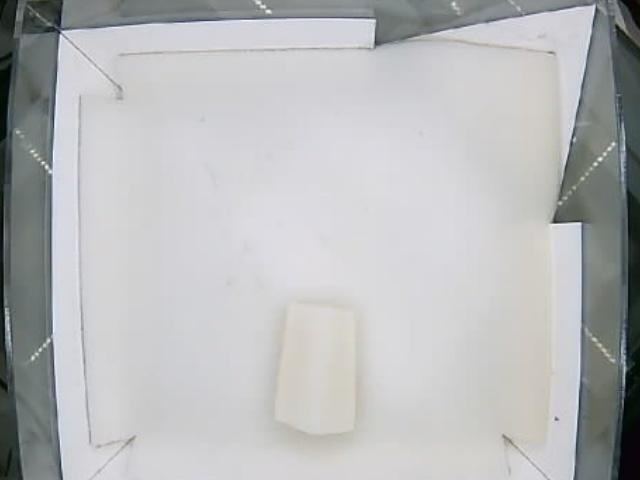Mooli: (275, 300, 354, 432)
